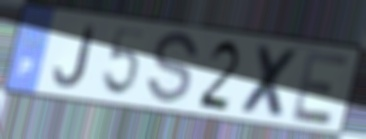2: (197, 39, 243, 114)
5: (99, 25, 148, 99)
E: (289, 48, 352, 128)
J: (52, 23, 97, 90)
S: (144, 30, 200, 109)
X: (237, 41, 303, 123)
